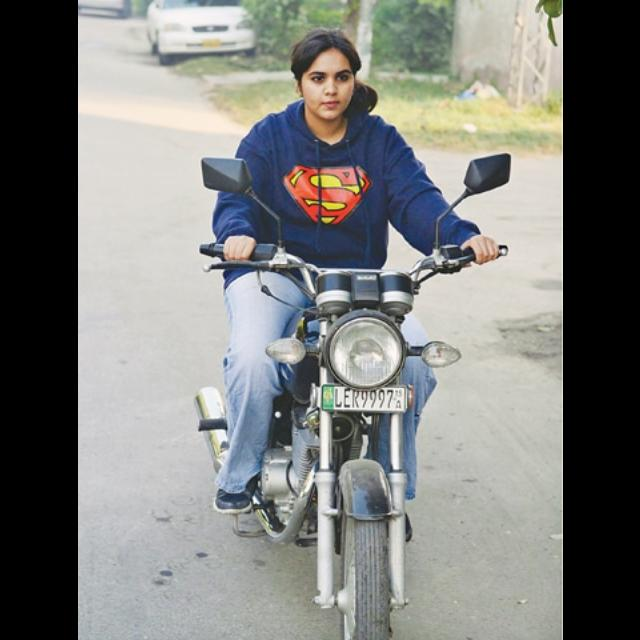Without Helmet: (291, 29, 364, 117)
